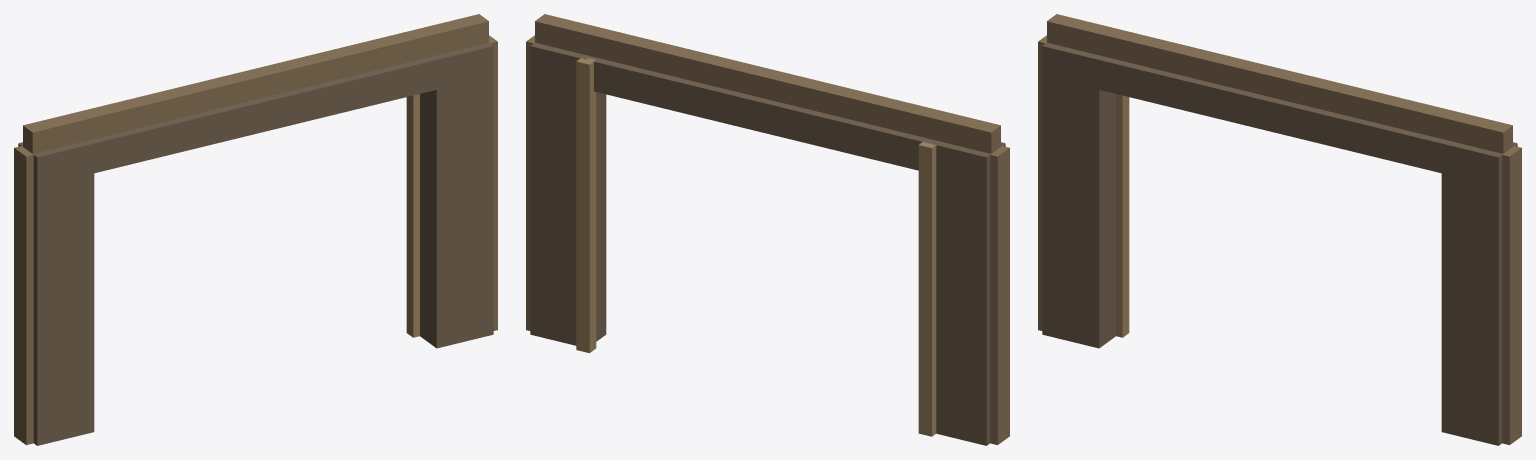
File: S2_DoorFrame_Wide.fbx
3 views of the same model, side by side, from view 1: azimuth 30°, elevation 25°; view 2: azimuth 150°, elevation 25°; view 3: azimuth 330°, elevation 25° (orthographic).
Parts seen in each view (by area): view 1: S2_DoorFrame_Wide; view 2: S2_DoorFrame_Wide; view 3: S2_DoorFrame_Wide.
Boxes of the visible parts, x1,y1,x2,y2 form: S2_DoorFrame_Wide: [14, 14, 497, 445]; S2_DoorFrame_Wide: [526, 14, 1009, 445]; S2_DoorFrame_Wide: [1038, 14, 1521, 445].
Size of the model in its own units: 4.96 by 3.12 by 0.4275.
